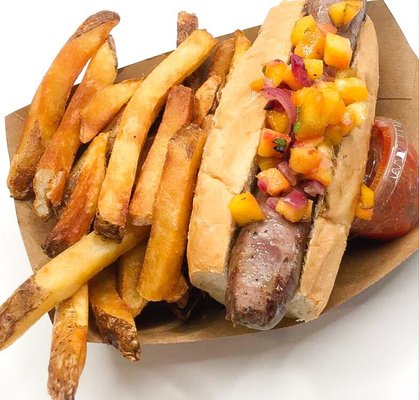burger: (185, 15, 386, 332), (94, 28, 223, 240), (7, 10, 121, 211)
